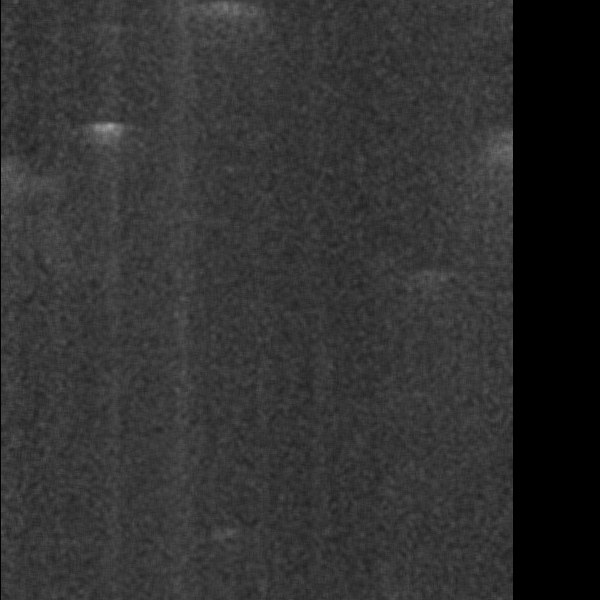spark: (51, 342, 77, 385), (427, 180, 455, 215)
